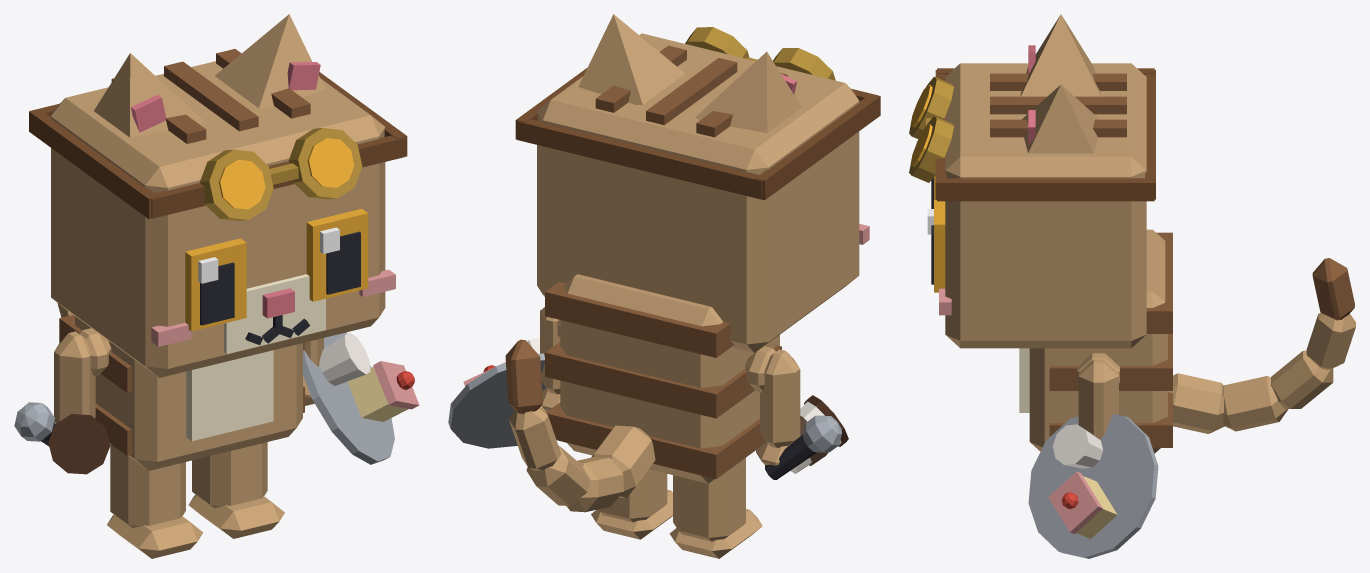
The model's file is CatCafe_Cat_Dune_Work.fbx.
The picture shows the model from 3 angles, left to right: view 1: azimuth 30°, elevation 25°; view 2: azimuth 150°, elevation 25°; view 3: azimuth 270°, elevation 25°; orthographic projection. The views are drawn at different scales.
Visible parts, largest first — view 1: CatCafe_Cat_Dune_Work_Head, CatCafe_Cat_Dune_Work_Body, CatCafe_Cat_Dune_Work_Prop, CatCafe_Cat_Dune_Work_Held_Waiter, CatCafe_Cat_Dune_Work_LegB2, CatCafe_Cat_Dune_Work_LegB1, CatCafe_Cat_Dune_Work_EarL, CatCafe_Cat_Dune_Work_Eye1, CatCafe_Cat_Dune_Work_Eye2, CatCafe_Cat_Dune_Work_EarR, CatCafe_Cat_Dune_Work_LegF2, CatCafe_Cat_Dune_Work_Held_Barista (+2 smaller); view 2: CatCafe_Cat_Dune_Work_Head, CatCafe_Cat_Dune_Work_Body, CatCafe_Cat_Dune_Work_Prop, CatCafe_Cat_Dune_Work_Tail, CatCafe_Cat_Dune_Work_LegB2, CatCafe_Cat_Dune_Work_EarL, CatCafe_Cat_Dune_Work_Held_Waiter, CatCafe_Cat_Dune_Work_EarR, CatCafe_Cat_Dune_Work_LegF2, CatCafe_Cat_Dune_Work_LegB1, CatCafe_Cat_Dune_Work_Held_Entertainer, CatCafe_Cat_Dune_Work_LegF1 (+1 smaller); view 3: CatCafe_Cat_Dune_Work_Head, CatCafe_Cat_Dune_Work_Held_Waiter, CatCafe_Cat_Dune_Work_Body, CatCafe_Cat_Dune_Work_Tail, CatCafe_Cat_Dune_Work_Prop, CatCafe_Cat_Dune_Work_EarR, CatCafe_Cat_Dune_Work_EarL, CatCafe_Cat_Dune_Work_LegF1, CatCafe_Cat_Dune_Work_Eye1.
Part boxes in pixels (x1,y1,x2,y2): CatCafe_Cat_Dune_Work_Head: [51, 49, 395, 377]; CatCafe_Cat_Dune_Work_Body: [59, 315, 304, 470]; CatCafe_Cat_Dune_Work_Prop: [29, 72, 407, 221]; CatCafe_Cat_Dune_Work_Held_Waiter: [303, 332, 419, 464]; CatCafe_Cat_Dune_Work_LegB2: [107, 444, 203, 558]; CatCafe_Cat_Dune_Work_LegB1: [188, 442, 284, 538]; CatCafe_Cat_Dune_Work_EarL: [215, 14, 325, 108]; CatCafe_Cat_Dune_Work_Eye1: [306, 208, 368, 301]; CatCafe_Cat_Dune_Work_Eye2: [185, 238, 246, 331]; CatCafe_Cat_Dune_Work_EarR: [94, 53, 204, 137]; CatCafe_Cat_Dune_Work_LegF2: [54, 331, 95, 423]; CatCafe_Cat_Dune_Work_Held_Barista: [48, 414, 110, 474]; CatCafe_Cat_Dune_Work_Head: [537, 33, 869, 352]; CatCafe_Cat_Dune_Work_Body: [545, 274, 781, 483]; CatCafe_Cat_Dune_Work_Prop: [515, 27, 880, 200]; CatCafe_Cat_Dune_Work_Tail: [505, 339, 655, 512]; CatCafe_Cat_Dune_Work_LegB2: [669, 458, 762, 558]; CatCafe_Cat_Dune_Work_EarL: [578, 14, 685, 104]; CatCafe_Cat_Dune_Work_Held_Waiter: [448, 337, 545, 448]; CatCafe_Cat_Dune_Work_EarR: [695, 51, 801, 132]; CatCafe_Cat_Dune_Work_LegF2: [756, 349, 800, 465]; CatCafe_Cat_Dune_Work_LegB1: [591, 469, 672, 539]; CatCafe_Cat_Dune_Work_Held_Entertainer: [765, 415, 841, 479]; CatCafe_Cat_Dune_Work_LegF1: [540, 307, 560, 411]; CatCafe_Cat_Dune_Work_Head: [939, 63, 1146, 348]; CatCafe_Cat_Dune_Work_Held_Waiter: [1028, 413, 1158, 558]; CatCafe_Cat_Dune_Work_Body: [1019, 229, 1172, 453]; CatCafe_Cat_Dune_Work_Tail: [1168, 258, 1355, 433]; CatCafe_Cat_Dune_Work_Prop: [909, 68, 1155, 201]; CatCafe_Cat_Dune_Work_EarR: [1020, 14, 1101, 96]; CatCafe_Cat_Dune_Work_EarL: [1022, 85, 1099, 153]; CatCafe_Cat_Dune_Work_LegF1: [1078, 359, 1118, 439]; CatCafe_Cat_Dune_Work_Eye1: [927, 200, 945, 292].
Size of the model in its own units: 1.53 by 1.93 by 1.69.
Materials: 1 (1 with a texture image).
